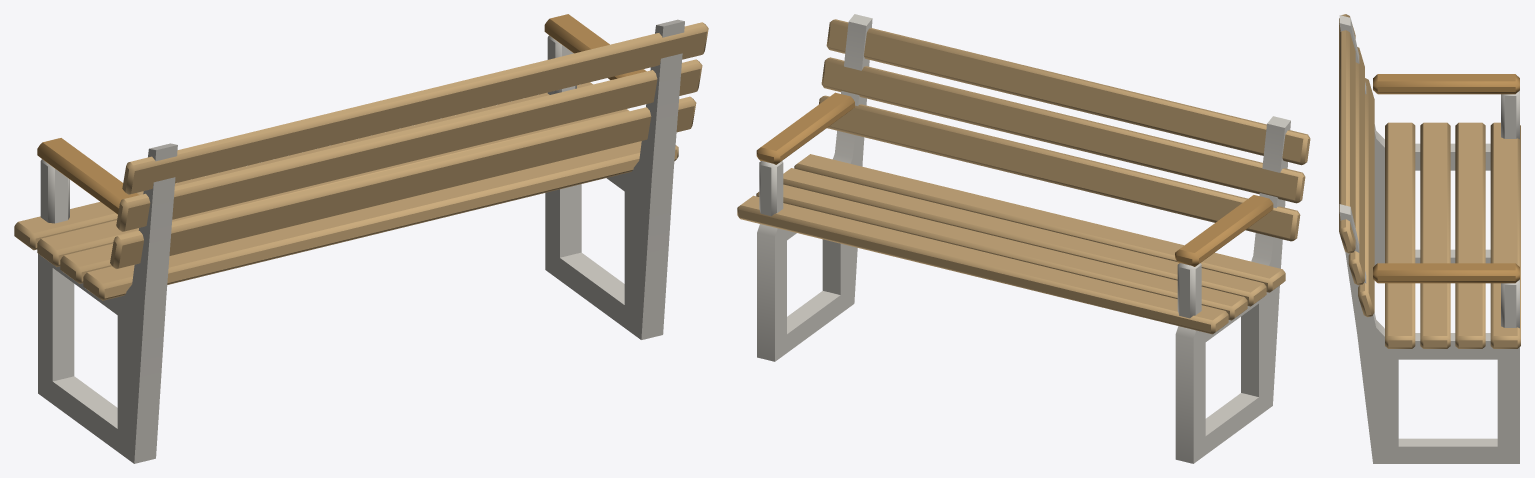
The model's file is bench_park.glb.
The picture shows the model from 3 angles, left to right: view 1: azimuth 30°, elevation 25°; view 2: azimuth 150°, elevation 25°; view 3: azimuth 270°, elevation 25°; orthographic projection. The views are drawn at different scales.
Visible parts, largest first — view 1: body; view 2: body; view 3: body.
Boxes of the visible parts, box(x1,y1,x2,y2) form: body: box(14, 14, 708, 463); body: box(737, 14, 1310, 463); body: box(1339, 14, 1520, 463).
Size of the model in its own units: 1.6 by 0.87 by 0.5688.
